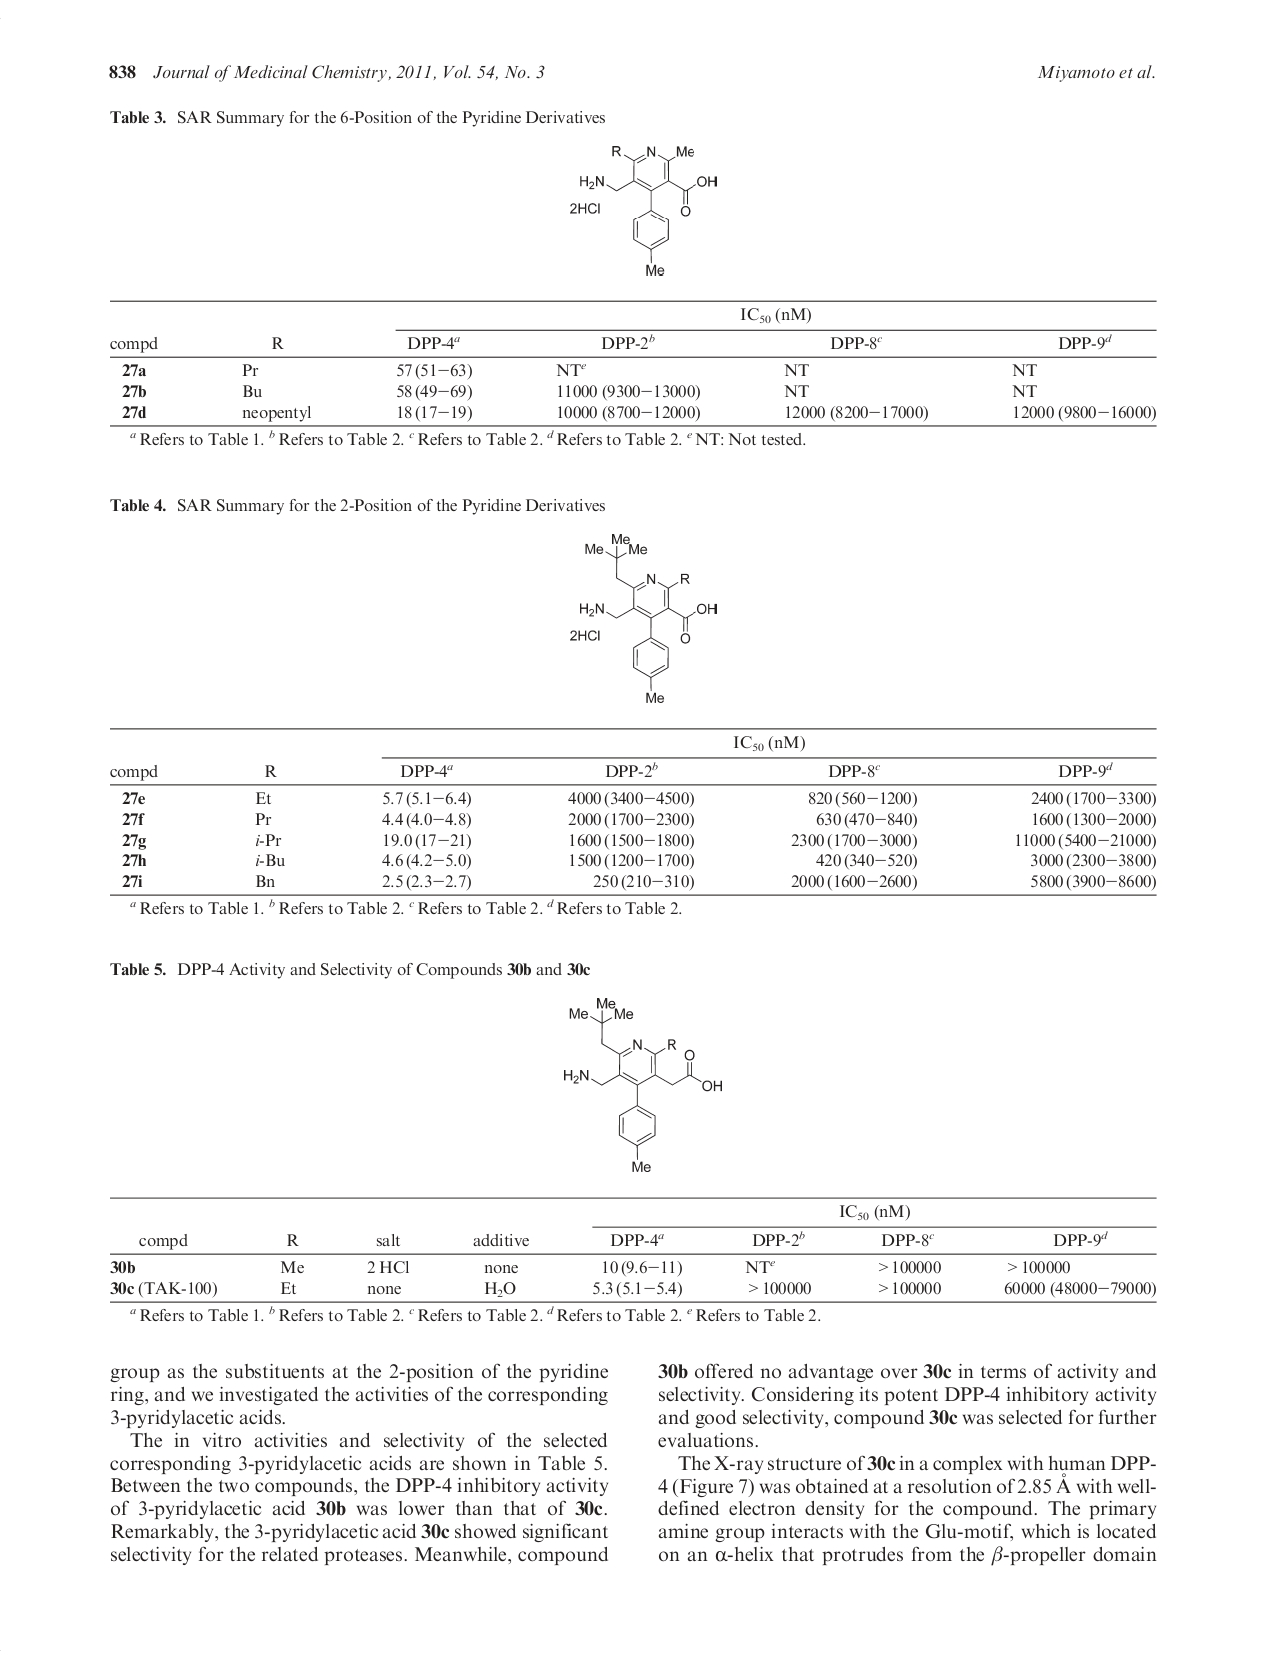exist_molecular: (560, 993, 729, 1178), (568, 527, 719, 706), (567, 141, 721, 281)
